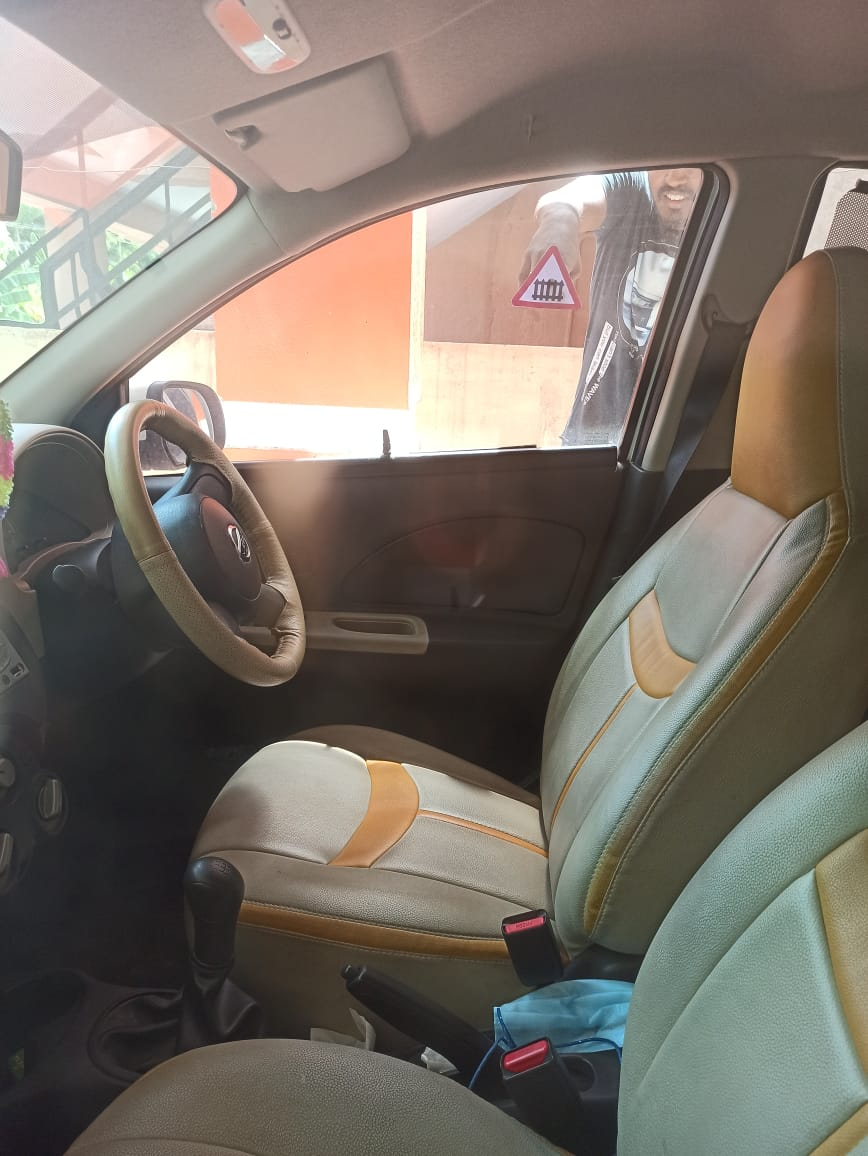GUARDED LEVEL CROSSING: (514, 240, 595, 329)
